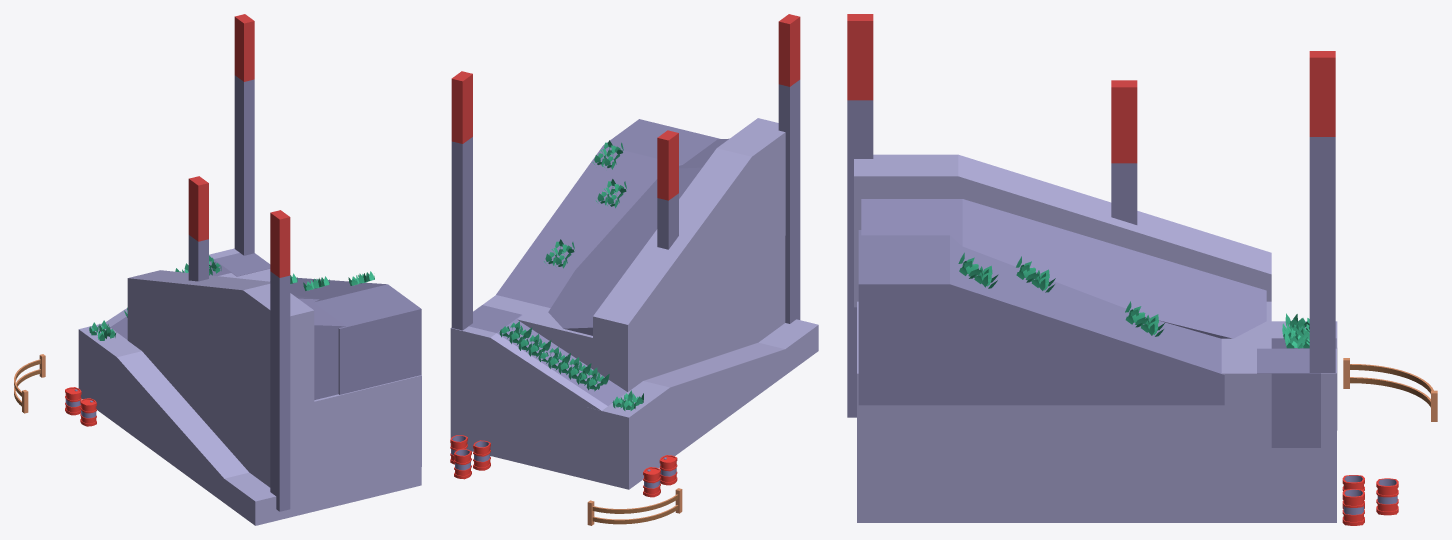
Rendered from trash_incinerator.glb.
3 views of the same model, side by side, from view 1: azimuth 30°, elevation 25°; view 2: azimuth 150°, elevation 25°; view 3: azimuth 270°, elevation 25° (orthographic). The views are drawn at different scales.
Visible parts, largest first — view 1: mergedBlocks(Clone); view 2: mergedBlocks(Clone); view 3: mergedBlocks(Clone).
Boxes of the visible parts, x1,y1,x2,y2 form: mergedBlocks(Clone): (14,14,421,525); mergedBlocks(Clone): (450,14,818,525); mergedBlocks(Clone): (847,14,1437,525).
Size of the model in its own units: 0.9248 by 1.46 by 1.59.
